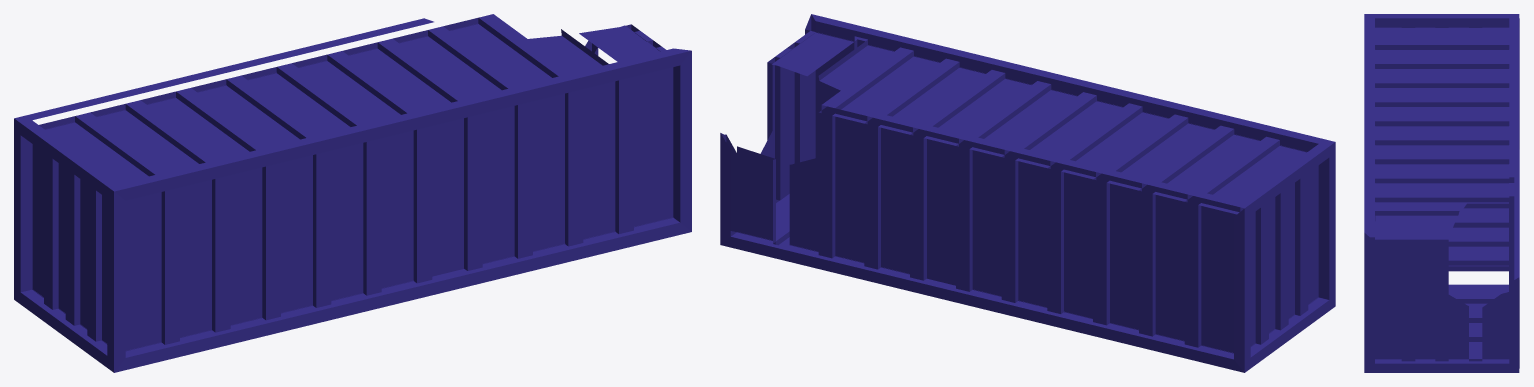
Rendered from 04 Broken_Containers.FBX.
The picture shows the model from 3 angles, left to right: view 1: azimuth 30°, elevation 25°; view 2: azimuth 150°, elevation 25°; view 3: azimuth 270°, elevation 25°; orthographic projection. The views are drawn at different scales.
Parts seen in each view (by area): view 1: Box058; view 2: Box058; view 3: Box058.
Part boxes in pixels (x1=…): Box058: x1=14, y1=14, x2=691, y2=372; Box058: x1=720, y1=14, x2=1335, y2=372; Box058: x1=1364, y1=14, x2=1519, y2=372.
Bounding box in the file's own units: 1000 × 300 × 300.
